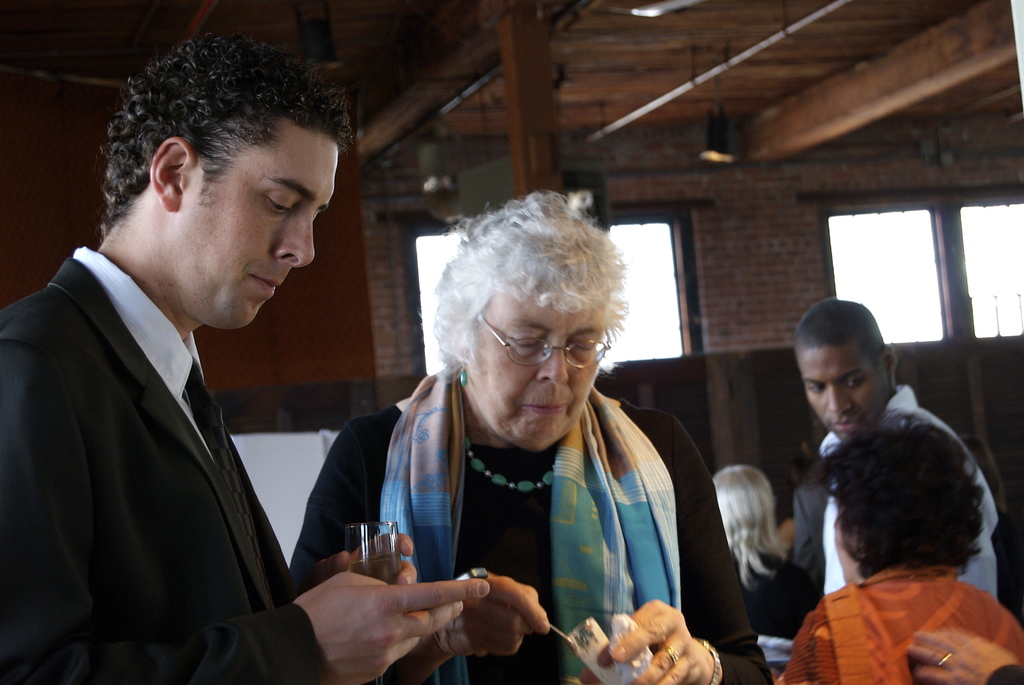Human-face: (169, 121, 334, 330), (467, 290, 604, 445), (795, 346, 890, 440), (836, 489, 859, 584)
